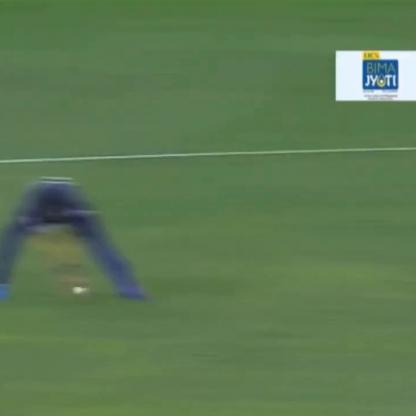ball: (72, 285, 87, 299)
